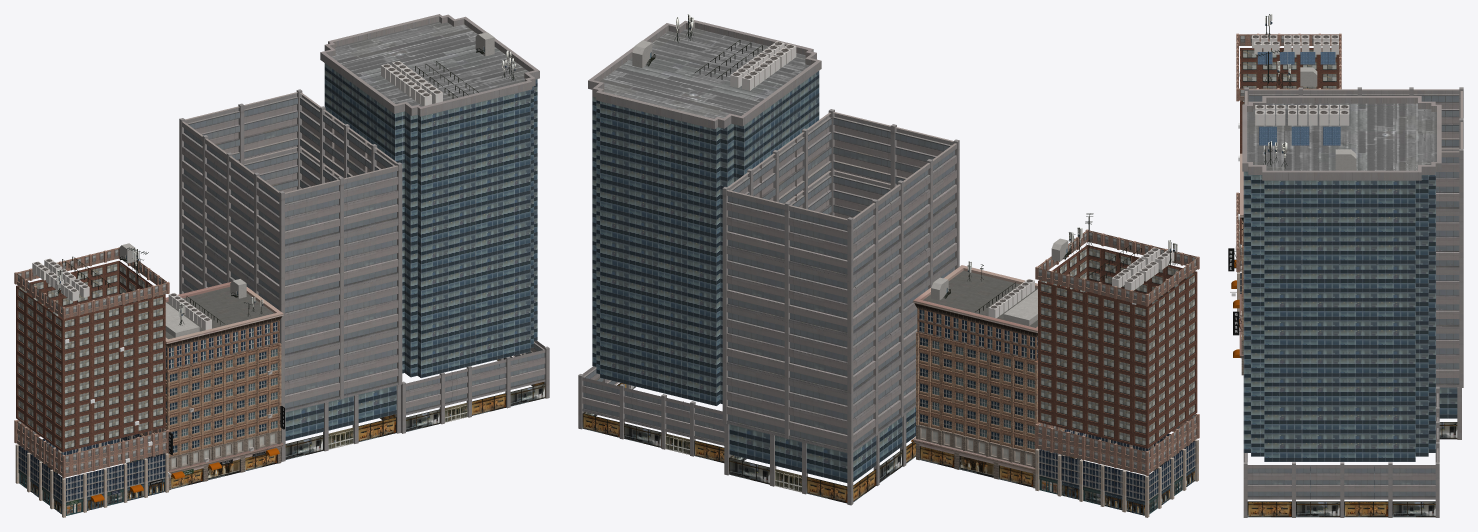
Rendered from beautiful_02.gltf.
3 views of the same model, side by side, from view 1: azimuth 30°, elevation 25°; view 2: azimuth 150°, elevation 25°; view 3: azimuth 270°, elevation 25° (orthographic). The views are drawn at different scales.
Visible parts, largest first — view 1: beautiful_02; view 2: beautiful_02; view 3: beautiful_02.
Part boxes in pixels (box(x1,y1,x2,y2)): beautiful_02: box(14, 14, 549, 517); beautiful_02: box(578, 14, 1199, 517); beautiful_02: box(1228, 14, 1463, 517).
Bounding box in the file's own units: 66.27 × 43.78 × 25.67.
9 materials, 7 textured.
